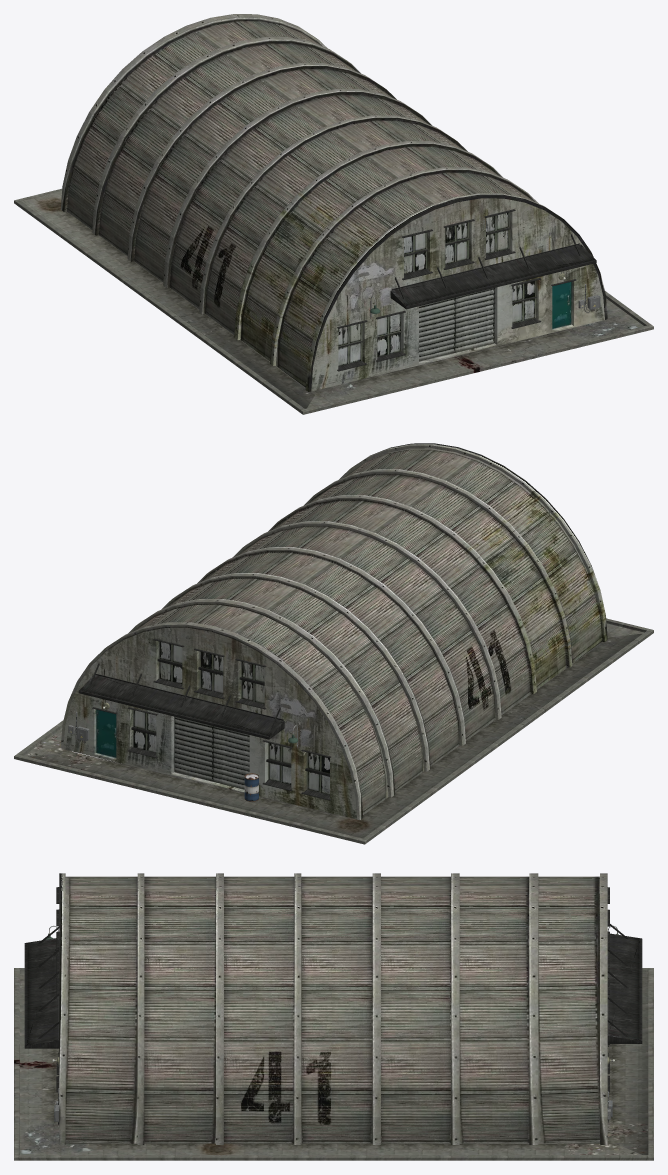
The model's file is hangar_quonset.glb.
3 renders of one model, top to bottom at view 1: azimuth 30°, elevation 25°; view 2: azimuth 150°, elevation 25°; view 3: azimuth 270°, elevation 25°, orthographic. The views are drawn at different scales.
Parts seen in each view (by area): view 1: hangar_quonset; view 2: hangar_quonset; view 3: hangar_quonset.
Part boxes in pixels (box(x1,y1,x2,y2)): hangar_quonset: box(14, 14, 653, 414); hangar_quonset: box(14, 443, 653, 844); hangar_quonset: box(14, 873, 653, 1160).
Bounding box in the file's own units: 19.22 × 8.27 × 27.44.
7 materials, 7 textured.
